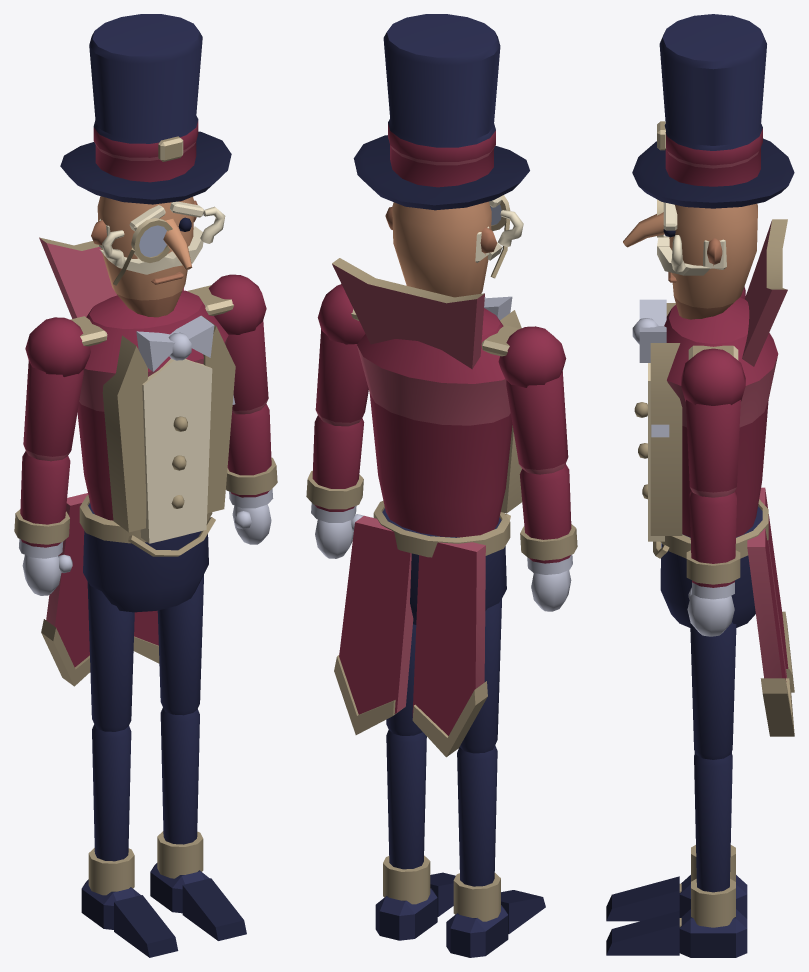
The model's file is Hoardsworth.fbx.
3 views of the same model, side by side, from view 1: azimuth 30°, elevation 25°; view 2: azimuth 150°, elevation 25°; view 3: azimuth 270°, elevation 25° (orthographic). The views are drawn at different scales.
Parts seen in each view (by area): view 1: Hoardsworth_UpperTorso, Hoardsworth_Hat, Hoardsworth_LowerTorso, Hoardsworth_Head, Hoardsworth_RightUpperArm, Hoardsworth_RightUpperLeg, Hoardsworth_RightFoot, Hoardsworth_LeftFoot, Hoardsworth_LeftUpperArm, Hoardsworth_LeftUpperLeg, Hoardsworth_RightLowerArm, Hoardsworth_RightLowerLeg (+5 smaller); view 2: Hoardsworth_UpperTorso, Hoardsworth_LowerTorso, Hoardsworth_Hat, Hoardsworth_Head, Hoardsworth_RightUpperArm, Hoardsworth_LeftUpperArm, Hoardsworth_RightFoot, Hoardsworth_RightLowerLeg, Hoardsworth_RightLowerArm, Hoardsworth_LeftLowerLeg, Hoardsworth_LeftLowerArm, Hoardsworth_LeftFoot (+5 smaller); view 3: Hoardsworth_Hat, Hoardsworth_UpperTorso, Hoardsworth_LowerTorso, Hoardsworth_Head, Hoardsworth_LeftUpperArm, Hoardsworth_LeftFoot, Hoardsworth_LeftUpperLeg, Hoardsworth_LeftLowerArm, Hoardsworth_LeftLowerLeg, Hoardsworth_RightFoot, Hoardsworth_LeftHand.
Part boxes in pixels (box(x1,y1,x2,y2)): Hoardsworth_UpperTorso: box(39, 237, 235, 543); Hoardsworth_Hat: box(60, 14, 231, 204); Hoardsworth_LowerTorso: box(41, 493, 215, 686); Hoardsworth_Head: box(91, 196, 225, 317); Hoardsworth_RightUpperArm: box(23, 317, 90, 461); Hoardsworth_RightUpperLeg: box(87, 581, 134, 731); Hoardsworth_RightFoot: box(81, 848, 178, 957); Hoardsworth_LeftFoot: box(150, 831, 246, 940); Hoardsworth_LeftUpperArm: box(208, 274, 268, 414); Hoardsworth_LeftUpperLeg: box(157, 575, 203, 715); Hoardsworth_RightLowerArm: box(14, 451, 70, 558); Hoardsworth_RightLowerLeg: box(92, 724, 131, 861); Hoardsworth_UpperTorso: box(332, 258, 522, 537); Hoardsworth_LowerTorso: box(334, 501, 510, 757); Hoardsworth_Hat: box(353, 14, 529, 210); Hoardsworth_Head: box(385, 196, 523, 297); Hoardsworth_RightUpperArm: box(498, 326, 568, 474); Hoardsworth_LeftUpperArm: box(315, 284, 368, 426); Hoardsworth_RightFoot: box(446, 873, 545, 957); Hoardsworth_RightLowerLeg: box(457, 745, 497, 886); Hoardsworth_RightLowerArm: box(519, 464, 577, 574); Hoardsworth_LeftLowerLeg: box(386, 730, 426, 869); Hoardsworth_LeftLowerArm: box(306, 415, 364, 522); Hoardsworth_LeftFoot: box(375, 855, 455, 940); Hoardsworth_Hat: box(632, 14, 794, 208); Hoardsworth_UpperTorso: box(632, 219, 787, 541); Hoardsworth_LowerTorso: box(653, 487, 794, 736); Hoardsworth_Head: box(623, 202, 757, 319); Hoardsworth_LeftUpperArm: box(681, 348, 745, 497); Hoardsworth_LeftFoot: box(606, 879, 747, 957); Hoardsworth_LeftUpperLeg: box(690, 622, 736, 759); Hoardsworth_LeftLowerArm: box(686, 490, 740, 599); Hoardsworth_LeftLowerLeg: box(694, 753, 732, 892); Hoardsworth_RightFoot: box(606, 845, 747, 921); Hoardsworth_LeftHand: box(687, 587, 734, 636).
Size of the model in its own units: 2.69 by 8.76 by 1.67.
Materials: 1 (1 with a texture image).
